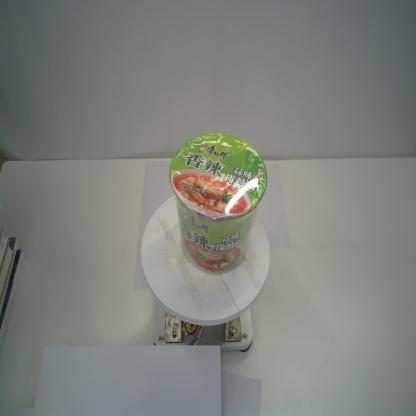Instant Noodles: (169, 132, 268, 275)
